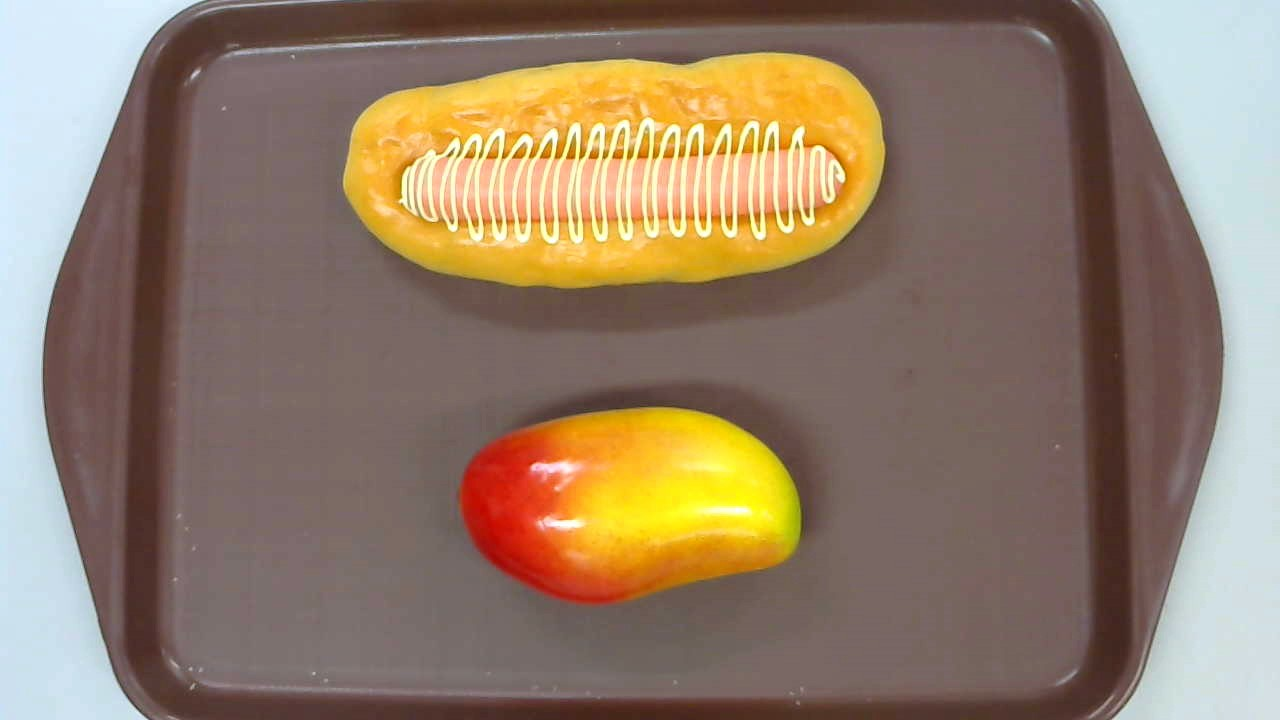hot dog: (338, 53, 885, 289)
red mango: (457, 405, 801, 608)
